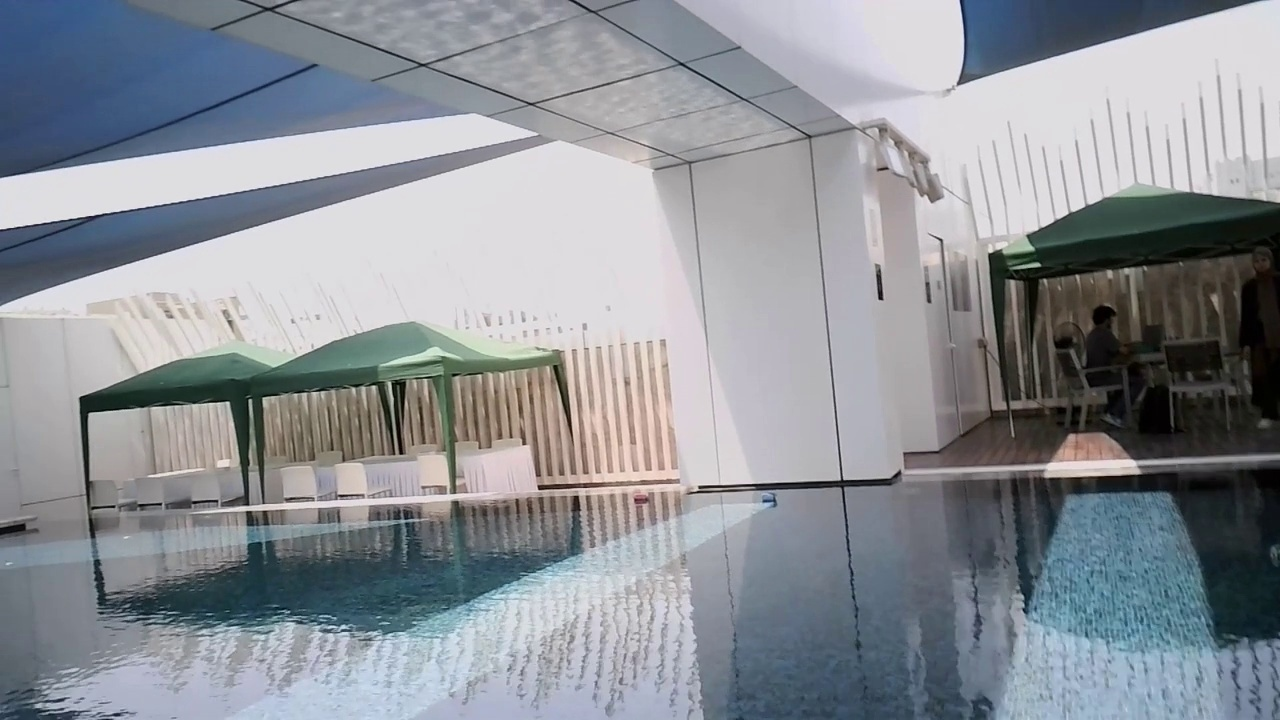debris: (757, 487, 778, 509), (630, 491, 652, 508)
